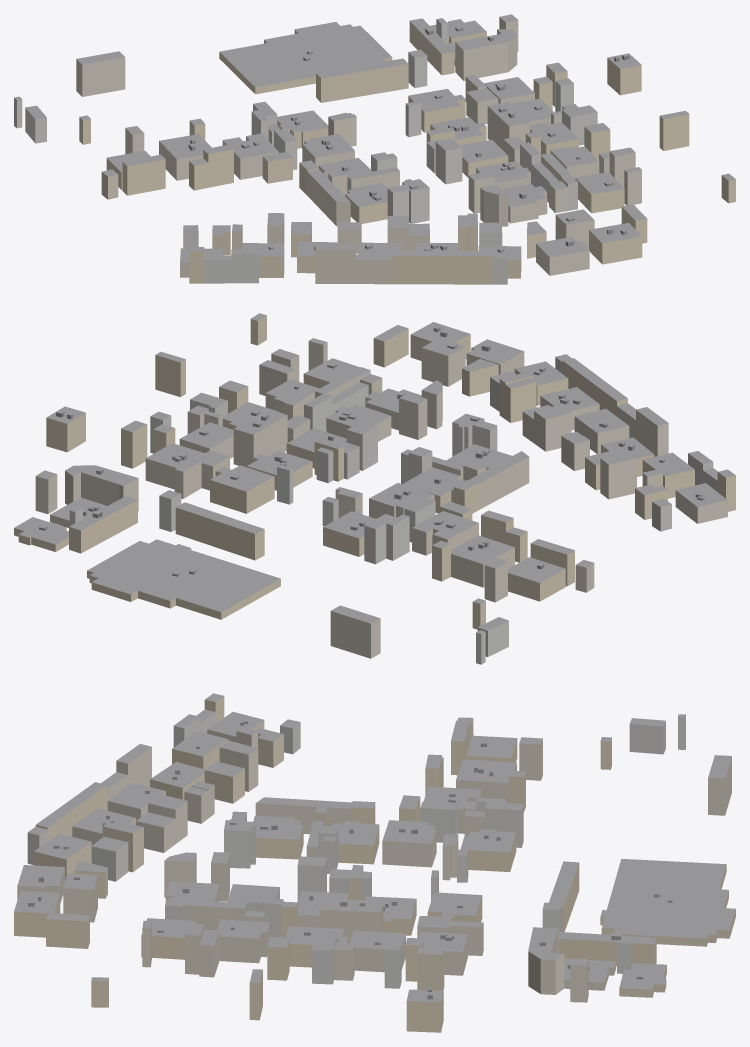
File: building_2_-1.glb
3 renders of one model, top to bottom at view 1: azimuth 30°, elevation 25°; view 2: azimuth 150°, elevation 25°; view 3: azimuth 270°, elevation 25°, orthographic. The views are drawn at different scales.
Parts seen in each view (by area): view 1: roof, sandstone, concrete_warm, concrete_light; view 2: roof, concrete_warm, sandstone, concrete_light; view 3: roof, concrete_warm, sandstone, concrete_light.
Boxes of the visible parts, x1,y1,x2,y2 form: roof: (14,14,735,261); sandstone: (79,21,735,284); concrete_warm: (76,17,641,284); concrete_light: (14,19,597,284); roof: (14,313,735,633); concrete_warm: (35,341,727,658); sandstone: (14,315,735,629); concrete_light: (69,357,717,664); roof: (14,693,735,1002); concrete_warm: (17,719,731,1002); sandstone: (14,696,735,1032); concrete_light: (27,712,685,988).
Bounding box in the file's own units: 258 × 16.54 × 260.
